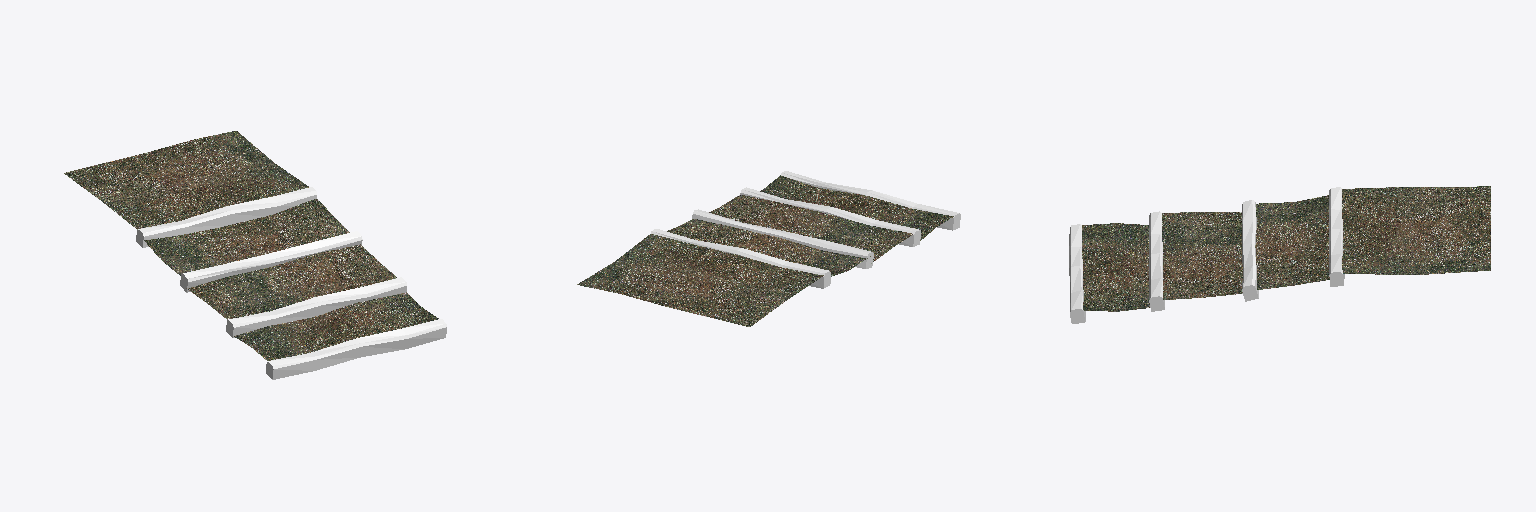
3 views of the same model, side by side, from view 1: azimuth 30°, elevation 25°; view 2: azimuth 150°, elevation 25°; view 3: azimuth 270°, elevation 25° (orthographic).
Parts seen in each view (by area): view 1: Plane04, Plane02, Plane03, Plane01, Box01, Box06, Box04, Box05; view 2: Plane04, Plane02, Plane03, Plane01, Box05, Box04, Box06, Box01; view 3: Plane04, Plane02, Plane03, Plane01, Box05, Box04, Box06, Box01.
Part boxes in pixels (left/top/right/bottom): Plane04: left=64, top=131, right=308, bottom=229; Plane02: left=186, top=244, right=396, bottom=319; Plane03: left=144, top=199, right=349, bottom=277; Plane01: left=234, top=292, right=438, bottom=360; Box01: left=266, top=319, right=446, bottom=379; Box06: left=136, top=187, right=316, bottom=247; Box04: left=226, top=277, right=406, bottom=337; Box05: left=180, top=231, right=362, bottom=292; Plane04: left=577, top=234, right=823, bottom=326; Plane02: left=709, top=195, right=912, bottom=263; Plane03: left=667, top=219, right=870, bottom=276; Plane01: left=760, top=175, right=953, bottom=240; Box05: left=692, top=209, right=873, bottom=268; Box04: left=740, top=187, right=920, bottom=246; Box06: left=651, top=229, right=830, bottom=288; Box01: left=781, top=171, right=960, bottom=230; Plane04: left=1342, top=186, right=1490, bottom=274; Plane02: left=1162, top=212, right=1242, bottom=299; Plane03: left=1255, top=195, right=1329, bottom=289; Plane01: left=1082, top=223, right=1149, bottom=311; Box05: left=1242, top=200, right=1258, bottom=301; Box04: left=1149, top=211, right=1164, bottom=311; Box06: left=1329, top=187, right=1344, bottom=286; Box01: left=1069, top=224, right=1085, bottom=323.
Size of the model in its own units: 2.17 by 0.6816 by 4.52.
2 materials, 1 textured.